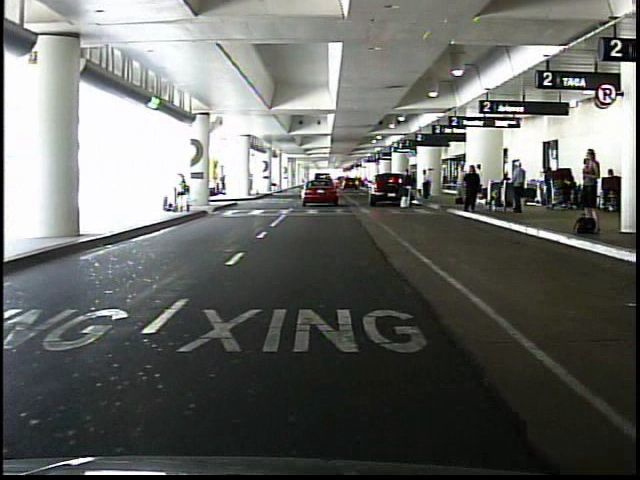person: (577, 147, 603, 218), (580, 159, 596, 215), (463, 163, 481, 212), (174, 172, 193, 217), (511, 161, 527, 214), (402, 166, 414, 210), (473, 163, 484, 202), (422, 168, 432, 201)
